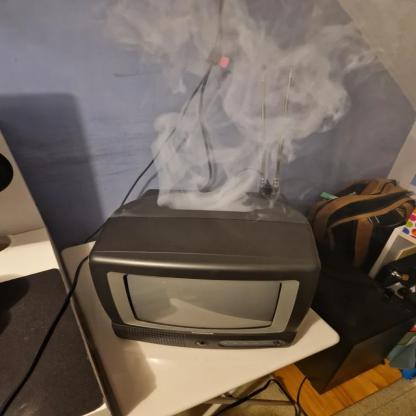smoke: (95, 1, 416, 217)
